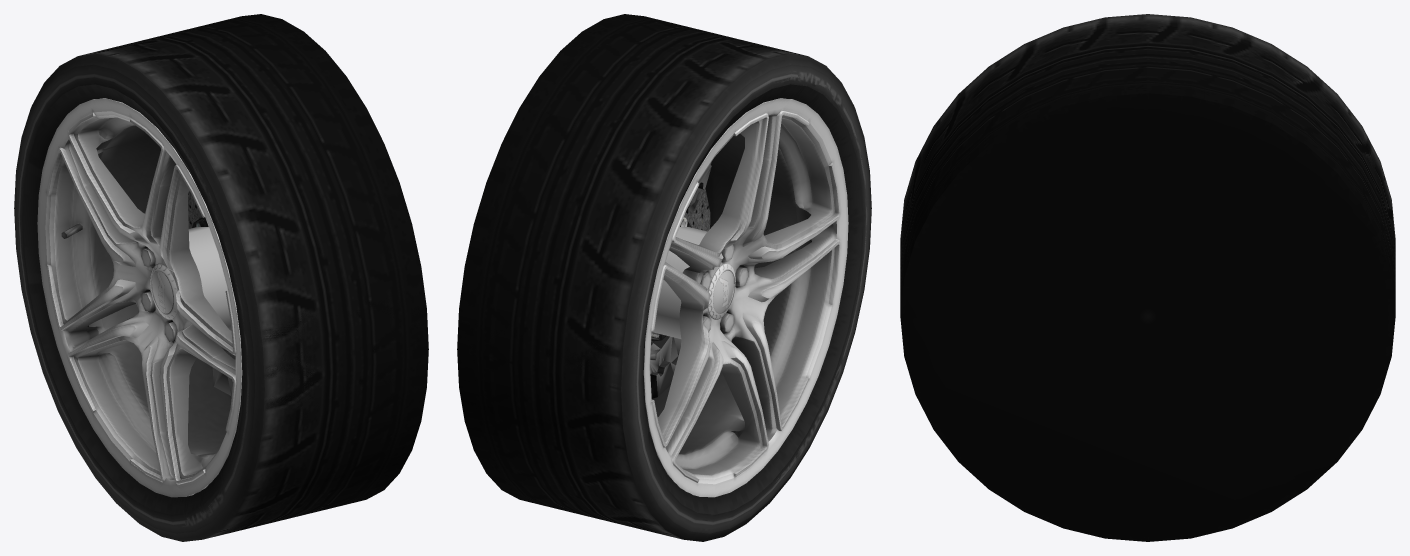
File: misc_r_wheels_a.fbx
The picture shows the model from 3 angles, left to right: view 1: azimuth 30°, elevation 25°; view 2: azimuth 150°, elevation 25°; view 3: azimuth 270°, elevation 25°; orthographic projection.
Visible parts, largest first — view 1: Tirerr_garage_a, Rimrl_garage1_a, Tirerl_garage_a, Rimrl_garage2_a, Rimrl_garage_lable_a; view 2: Tirerr_garage_a, Rimrl_garage1_a, Tirerl_garage_a, Rimrl_garage2_a, support_rr_a, brake_disk_rl_garage_a, Rimrl_garage_lable_a; view 3: Tirerr_garage_a, Tirerl_garage_a.
Part boxes in pixels (<box>): Tirerr_garage_a: <box>14,14,427,532</box>; Rimrl_garage1_a: <box>40,98,242,495</box>; Tirerl_garage_a: <box>14,57,428,541</box>; Rimrl_garage2_a: <box>37,99,241,497</box>; Rimrl_garage_lable_a: <box>150,263,177,319</box>; Tirerr_garage_a: <box>457,14,871,539</box>; Rimrl_garage1_a: <box>643,98,845,495</box>; Tirerl_garage_a: <box>457,57,871,541</box>; Rimrl_garage2_a: <box>644,99,848,497</box>; support_rr_a: <box>650,336,681,398</box>; brake_disk_rl_garage_a: <box>651,188,710,342</box>; Rimrl_garage_lable_a: <box>707,263,735,319</box>; Tirerr_garage_a: <box>900,14,1395,541</box>; Tirerl_garage_a: <box>900,93,1395,541</box>.
Size of the model in its own units: 0.9833 by 2.45 by 2.45.
